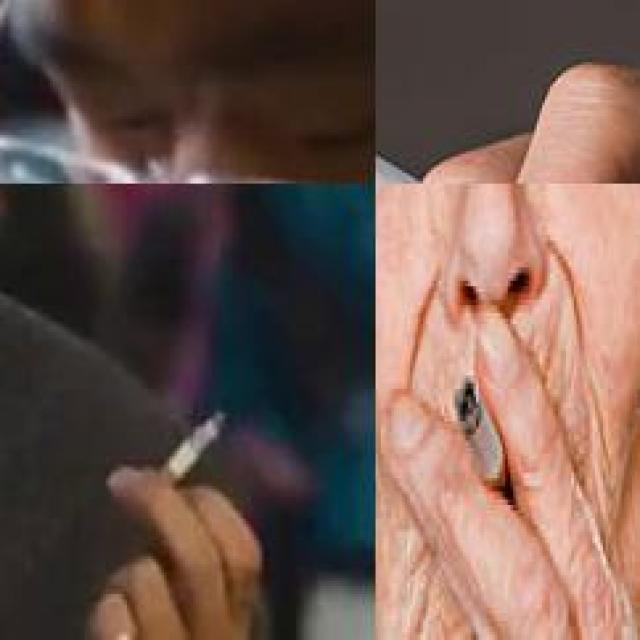cigarette: (376, 40, 568, 181), (452, 371, 513, 504), (144, 408, 226, 502)
